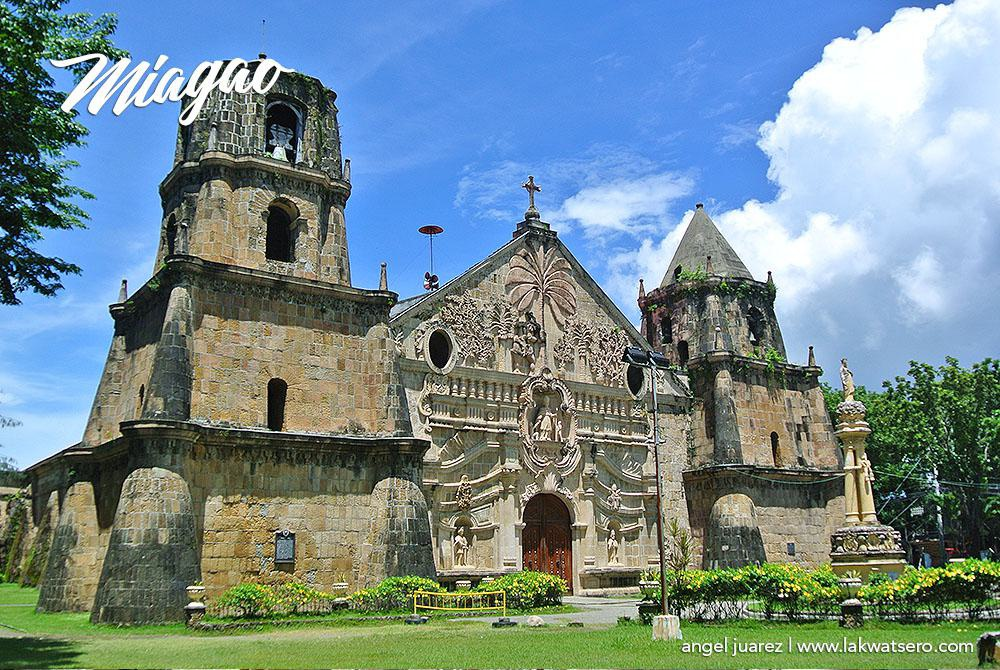miagao_church_miagao_iloilo: (48, 15, 914, 603)
